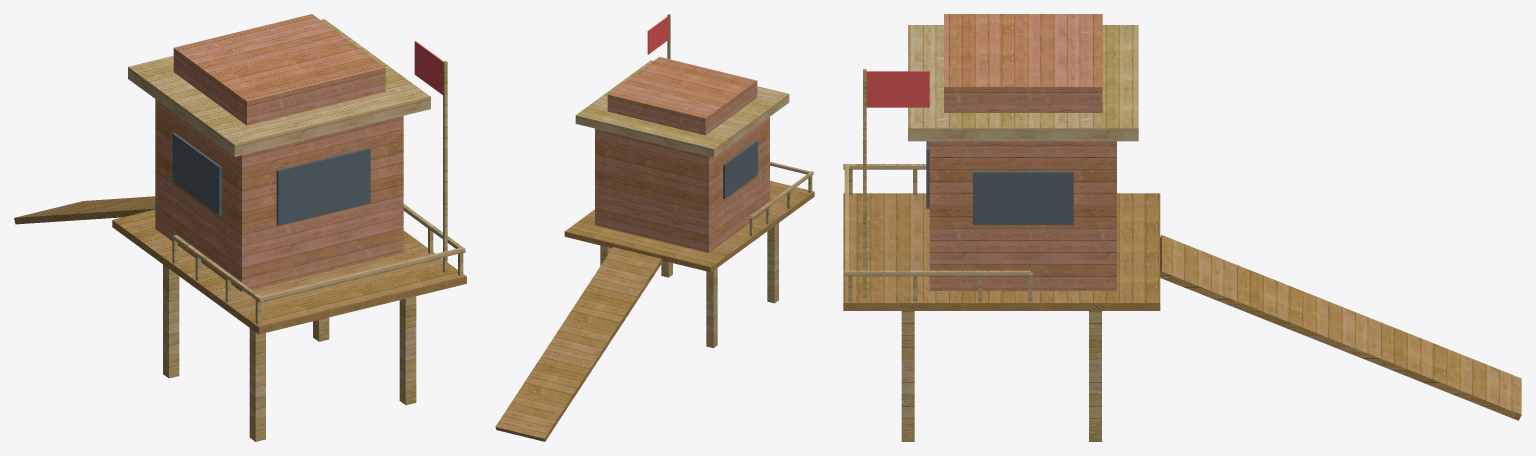
Rendered from lifeguard_0.glb.
3 views of the same model, side by side, from view 1: azimuth 30°, elevation 25°; view 2: azimuth 150°, elevation 25°; view 3: azimuth 270°, elevation 25° (orthographic). The views are drawn at different scales.
Visible parts, largest first — view 1: lifeguard; view 2: lifeguard; view 3: lifeguard.
Part boxes in pixels (left/top/right/bottom): lifeguard: left=14, top=14, right=466, bottom=441; lifeguard: left=495, top=14, right=814, bottom=441; lifeguard: left=843, top=14, right=1521, bottom=441.
Size of the model in its own units: 3.6 by 5.85 by 9.42.
Materials: 5 (3 with a texture image).
